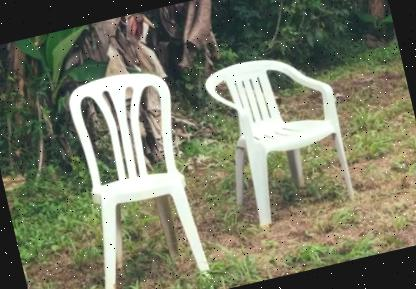chair: (43, 56, 222, 289), (196, 37, 366, 238)
